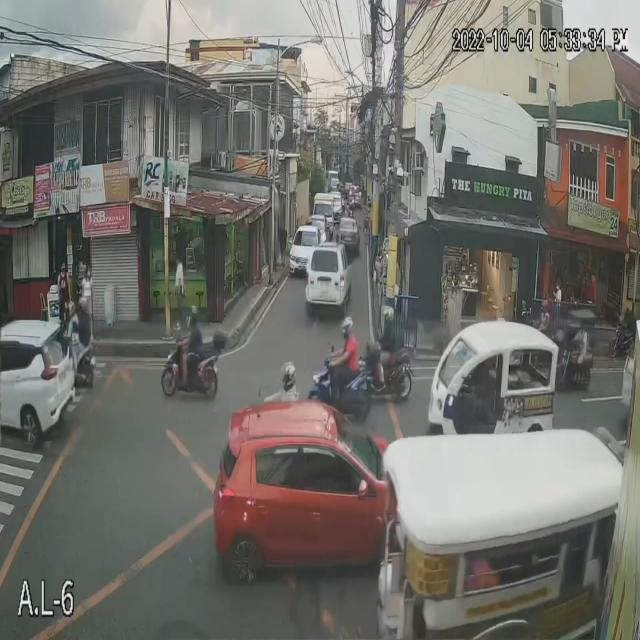Full-Faced: (336, 318, 357, 341), (278, 362, 297, 386), (378, 300, 394, 328)
